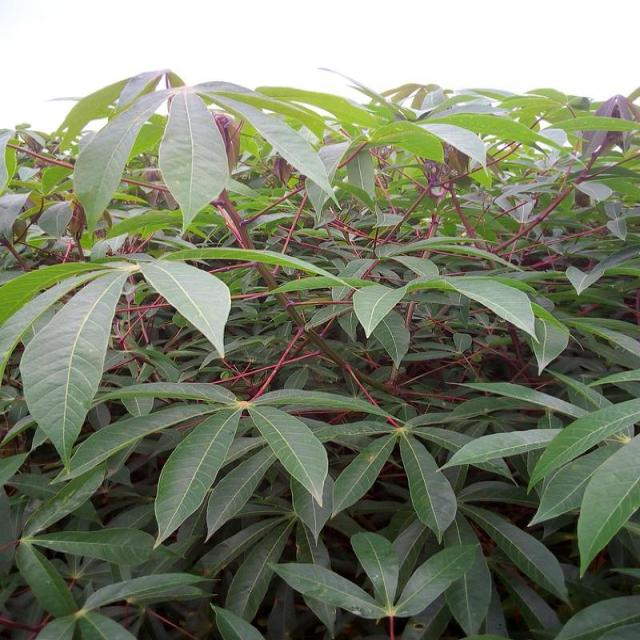cassava leaf: (2, 66, 639, 638), (19, 261, 137, 474), (158, 90, 232, 233), (138, 256, 233, 358)
